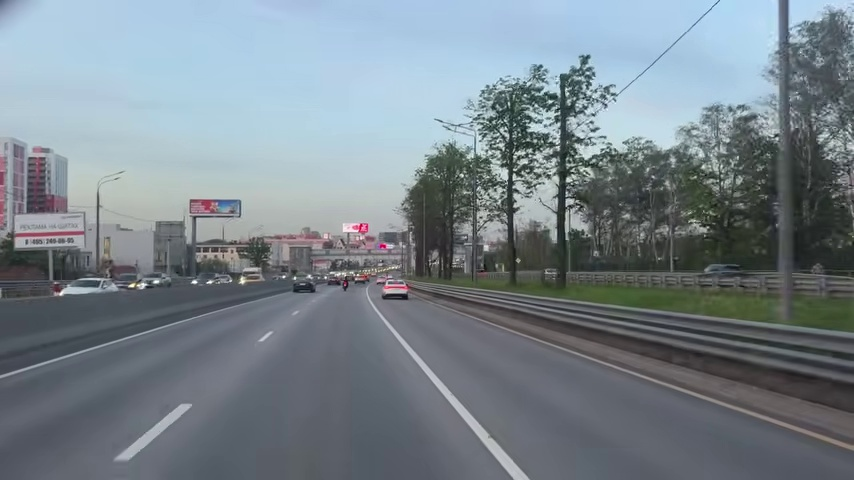apagada: (163, 402, 191, 427), (110, 169, 127, 183)
